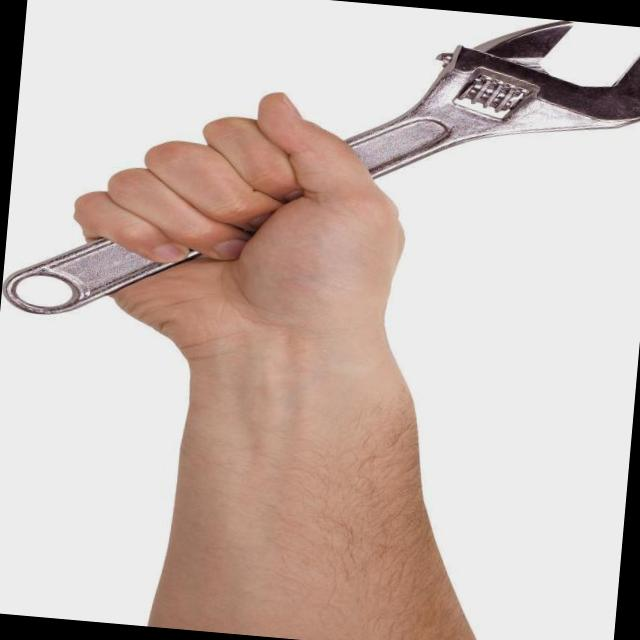wrench: (347, 20, 640, 176), (3, 239, 199, 313)
